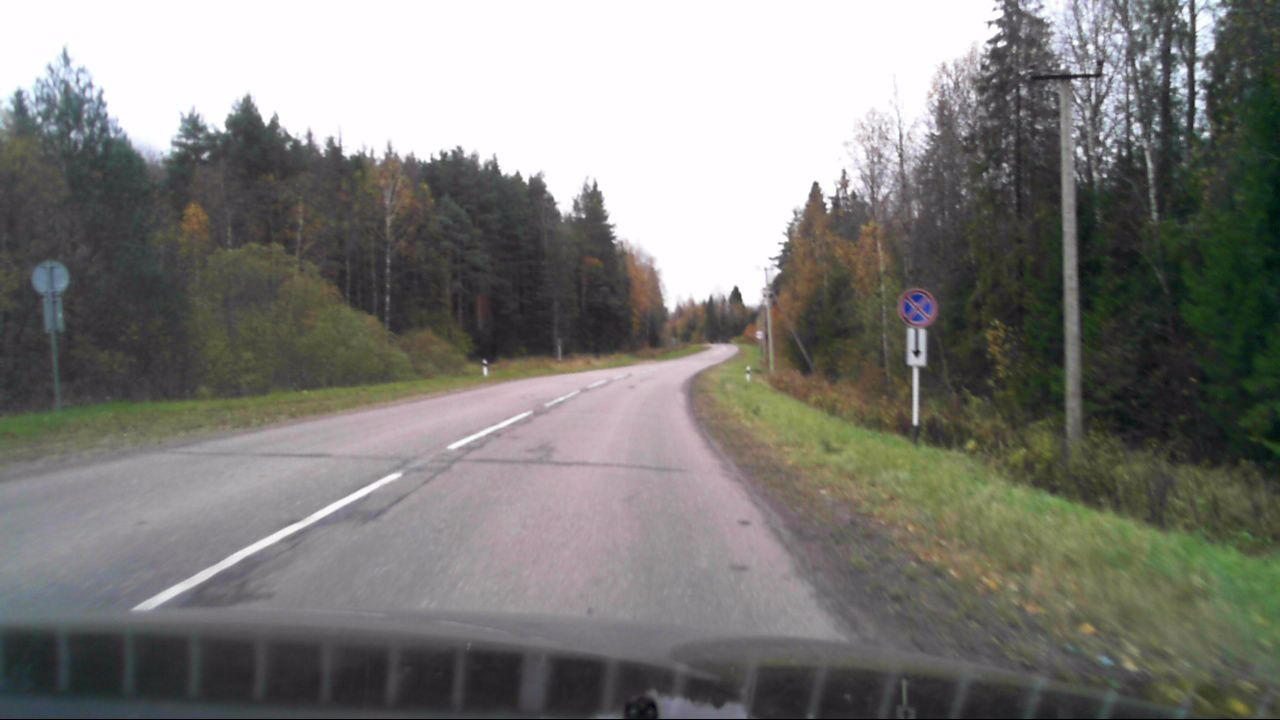No Parking: (896, 287, 939, 326)
